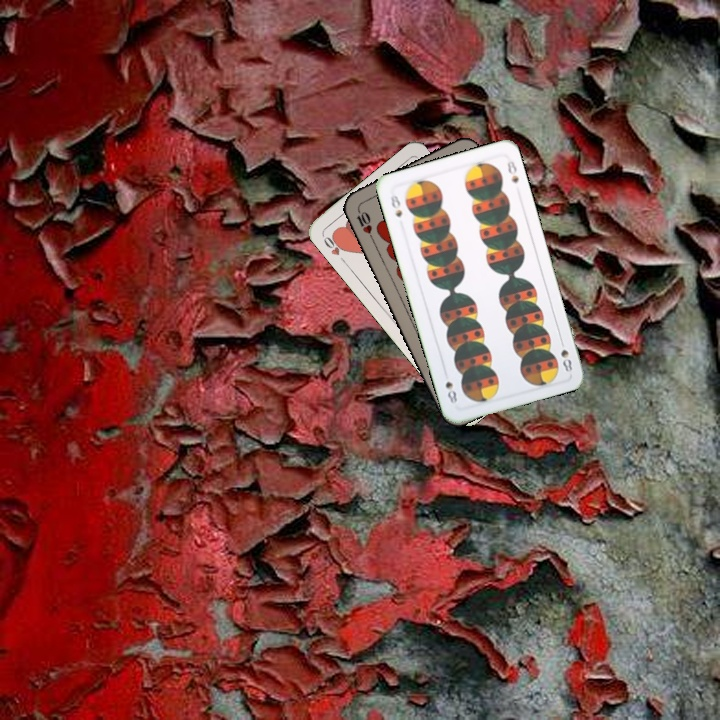H10: (352, 203, 376, 242)
HO: (318, 230, 349, 266)
S8: (386, 188, 405, 220), (557, 345, 575, 374)
